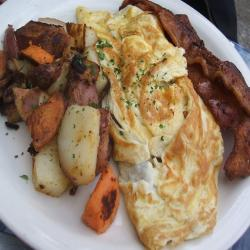fries: (21, 103, 124, 239)
omelette: (75, 12, 234, 246)
